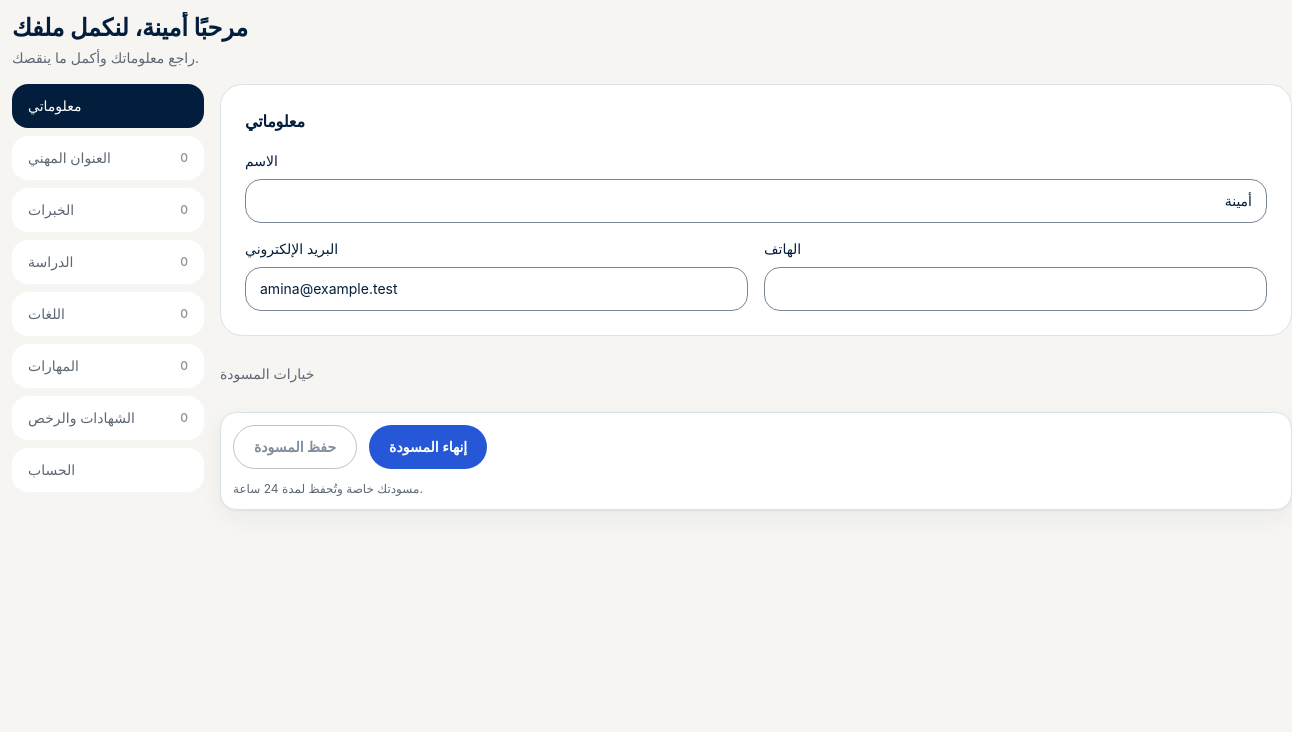
guest professional draft › shows one section at a time and preserves unsaved edits when switching
This screenshot has width=1292, height=732.
Step 1. Replace the text in the field labelled "الاسم" with "اسم معدل" → point(756, 201), box [245,179,1267,223]
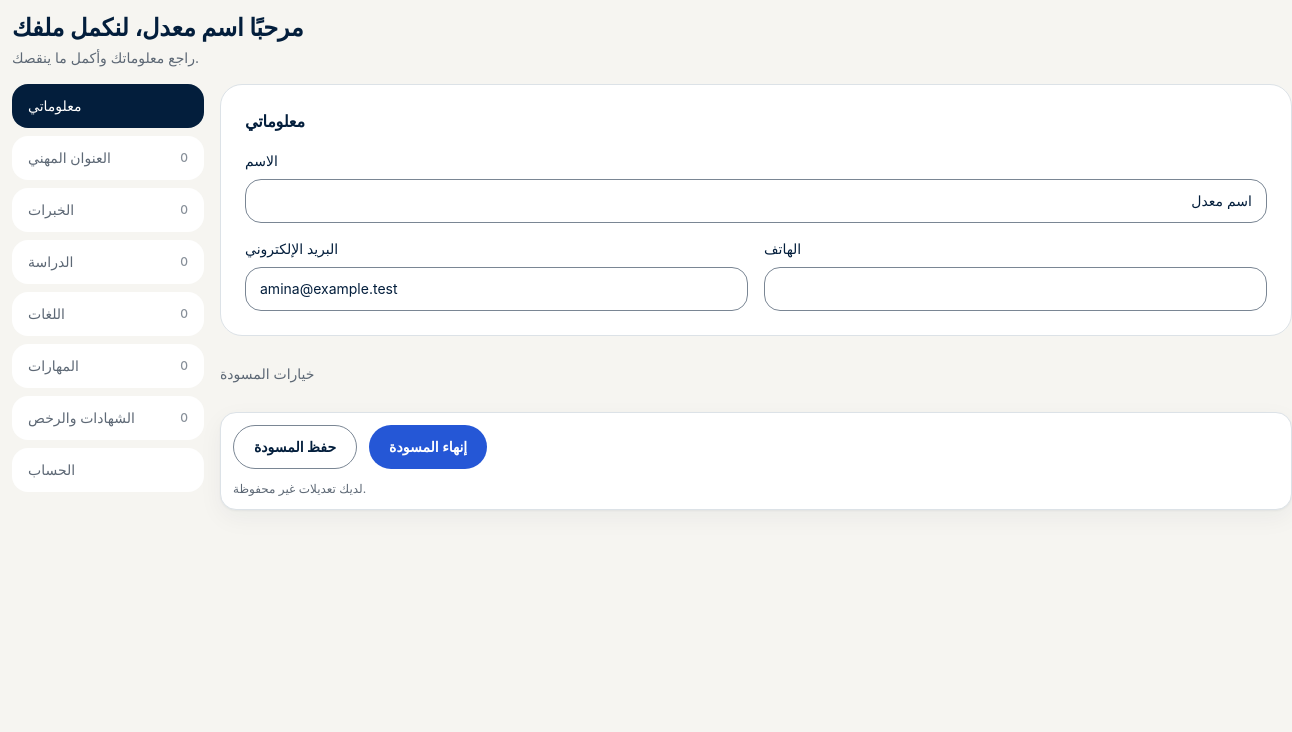
Step 2. Click the button "الخبرات 0" → point(108, 210), box [12,188,204,232]
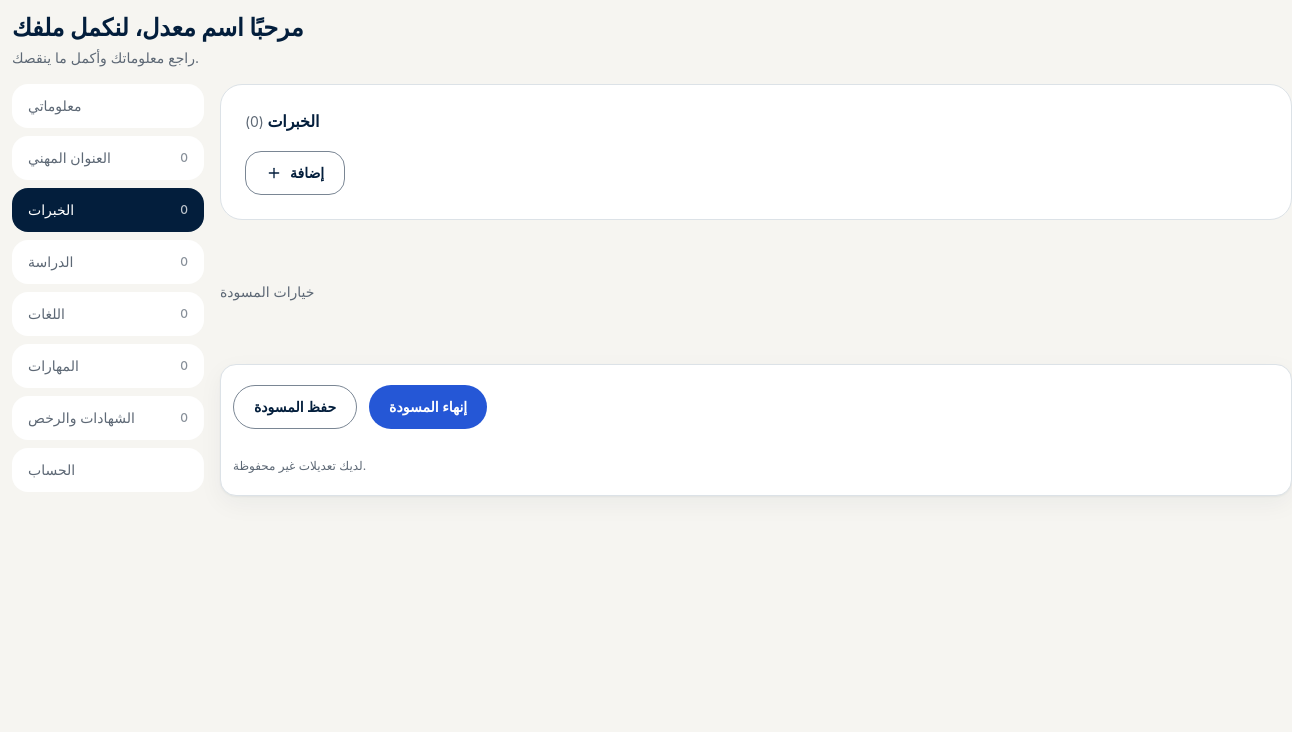
Expected: the label labelled "الاسم" is gone
Step 3. Click the button "معلوماتي" → point(108, 106), box [12,84,204,128]
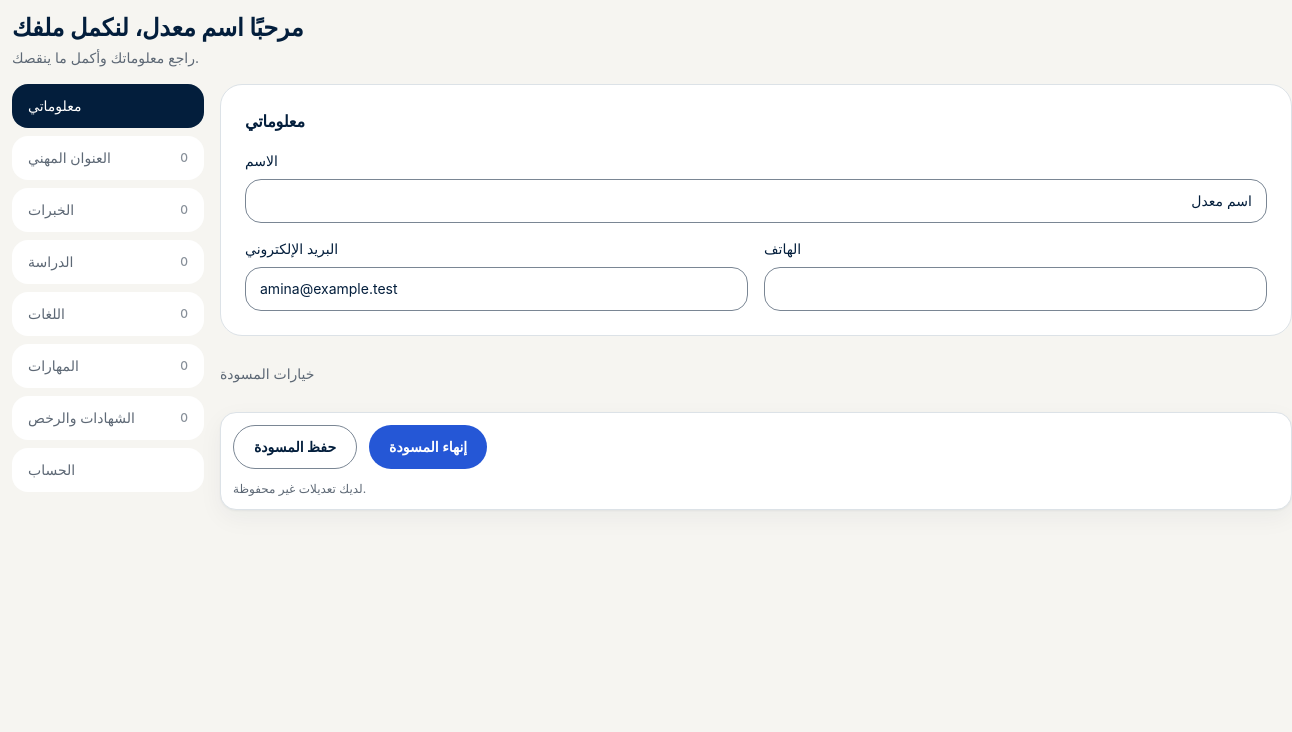
Expected: the field labelled "الاسم" holds "اسم معدل", [245,179,1267,223]
